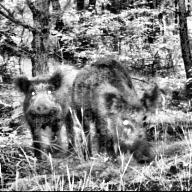boar: (72, 54, 162, 166), (9, 56, 69, 164)
